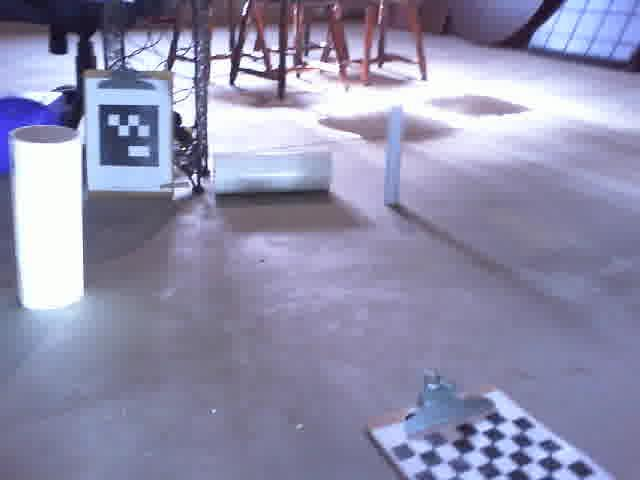coral: (8, 125, 87, 311), (211, 151, 334, 198)
